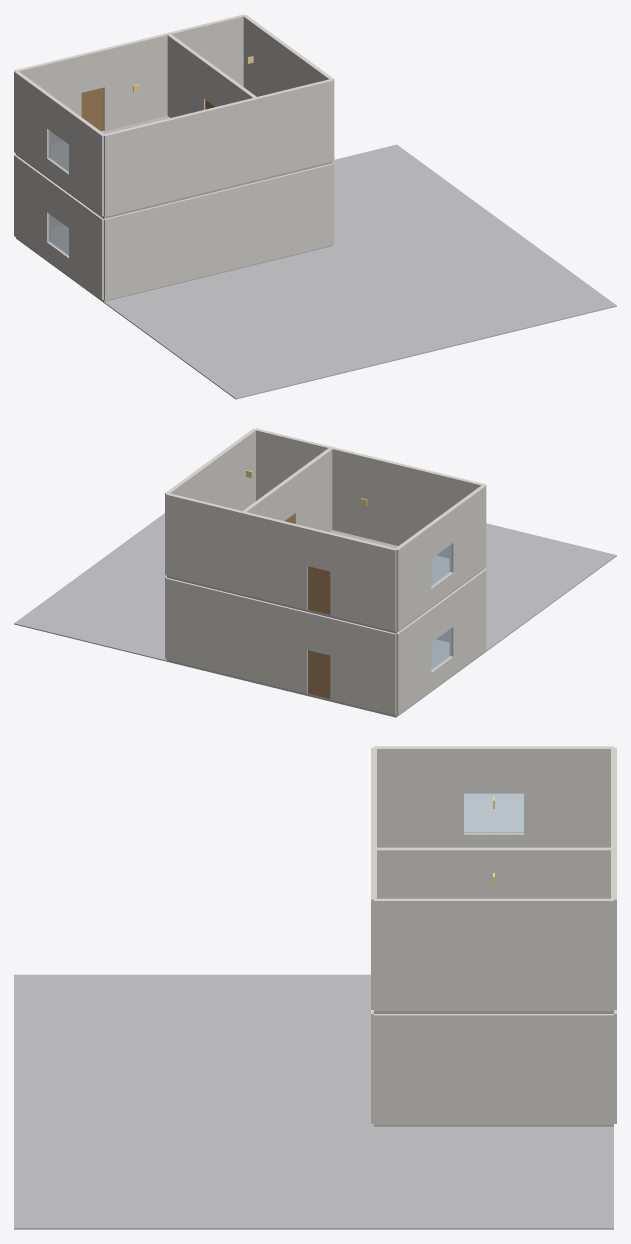
The model's file is villa.gltf.
3 views of the same model, one above another, from view 1: azimuth 30°, elevation 25°; view 2: azimuth 150°, elevation 25°; view 3: azimuth 270°, elevation 25° (orthographic). The views are drawn at different scales.
Visible parts, largest first — view 1: SITE|GROUND|plane|0, WALL|F1|living|wS_seg0, WALL|F0|living|wS_seg0, WALL|F1|stairs|wS_seg0, WALL|F0|stairs|wS_seg0, WALL|F1|living|wN_seg2, WALL|F1|stairs|wE_seg0, WALL|F1|living|wW_seg3, WALL|F1|living|wW_seg0, WALL|F0|living|wW_seg3, WALL|F0|living|wW_seg0, WALL|F1|stairs|wN_seg0 (+12 smaller); view 2: SITE|GROUND|plane|0, WALL|F1|living|wS_seg0, WALL|F1|stairs|wN_seg0, WALL|F0|stairs|wN_seg0, WALL|F1|living|wN_seg0, WALL|F0|living|wN_seg0, WALL|F1|living|wN_seg2, WALL|F0|living|wN_seg2, WALL|F1|stairs|wE_seg0, WALL|F1|living|wW_seg0, WALL|F1|living|wW_seg3, WALL|F0|living|wW_seg0 (+17 smaller); view 3: SITE|GROUND|plane|0, WALL|F1|stairs|wE_seg0, WALL|F0|stairs|wE_seg0, WALL|F1|living|wW_seg3, WALL|F1|living|wW_seg0, WALL|F1|living|wE_seg0, WALL|F1|living|wE_seg2, WALL|F1|living|wW_seg2, WINDOW|F1|living|0, WALL|F1|living|wE_seg1, WALL|F1|living|wW_seg1, FLOOR|F1|slab|1.
Part boxes in pixels (box(x1,y1,x2,y2)): SITE|GROUND|plane|0: box(16, 144, 616, 399); WALL|F1|living|wS_seg0: box(104, 97, 257, 216); WALL|F0|living|wS_seg0: box(104, 182, 257, 300); WALL|F1|stairs|wS_seg0: box(256, 79, 333, 179); WALL|F0|stairs|wS_seg0: box(257, 163, 333, 263); WALL|F1|living|wN_seg2: box(102, 33, 167, 130); WALL|F1|stairs|wE_seg0: box(243, 15, 334, 159); WALL|F1|living|wW_seg3: box(69, 111, 104, 216); WALL|F1|living|wW_seg0: box(14, 71, 50, 175); WALL|F0|living|wW_seg3: box(69, 195, 103, 300); WALL|F0|living|wW_seg0: box(14, 155, 50, 259); WALL|F1|stairs|wN_seg0: box(167, 14, 244, 86); SITE|GROUND|plane|0: box(14, 513, 616, 717); WALL|F1|living|wS_seg0: box(331, 447, 485, 558); WALL|F1|stairs|wN_seg0: box(165, 493, 243, 593); WALL|F0|stairs|wN_seg0: box(165, 578, 242, 677); WALL|F1|living|wN_seg0: box(330, 533, 396, 631); WALL|F0|living|wN_seg0: box(330, 618, 396, 715); WALL|F1|living|wN_seg2: box(242, 511, 308, 609); WALL|F0|living|wN_seg2: box(242, 596, 307, 693); WALL|F1|stairs|wE_seg0: box(165, 428, 255, 574); WALL|F1|living|wW_seg0: box(395, 525, 431, 630); WALL|F1|living|wW_seg3: box(449, 485, 486, 590); WALL|F0|living|wW_seg0: box(396, 609, 431, 714); SITE|GROUND|plane|0: box(14, 974, 613, 1229); WALL|F1|stairs|wE_seg0: box(374, 898, 613, 1011); WALL|F0|stairs|wE_seg0: box(374, 1014, 613, 1125); WALL|F1|living|wW_seg3: box(374, 746, 463, 847); WALL|F1|living|wW_seg0: box(524, 746, 613, 847); WALL|F1|living|wE_seg0: box(512, 847, 613, 898); WALL|F1|living|wE_seg2: box(374, 847, 475, 898); WALL|F1|living|wW_seg2: box(464, 746, 523, 793); WINDOW|F1|living|0: box(464, 793, 523, 833); WALL|F1|living|wE_seg1: box(476, 847, 511, 898); WALL|F1|living|wW_seg1: box(464, 832, 523, 847); FLOOR|F1|slab|1: box(374, 1011, 613, 1013).
Size of the model in its own units: 20.1 by 8.4 by 20.1.
